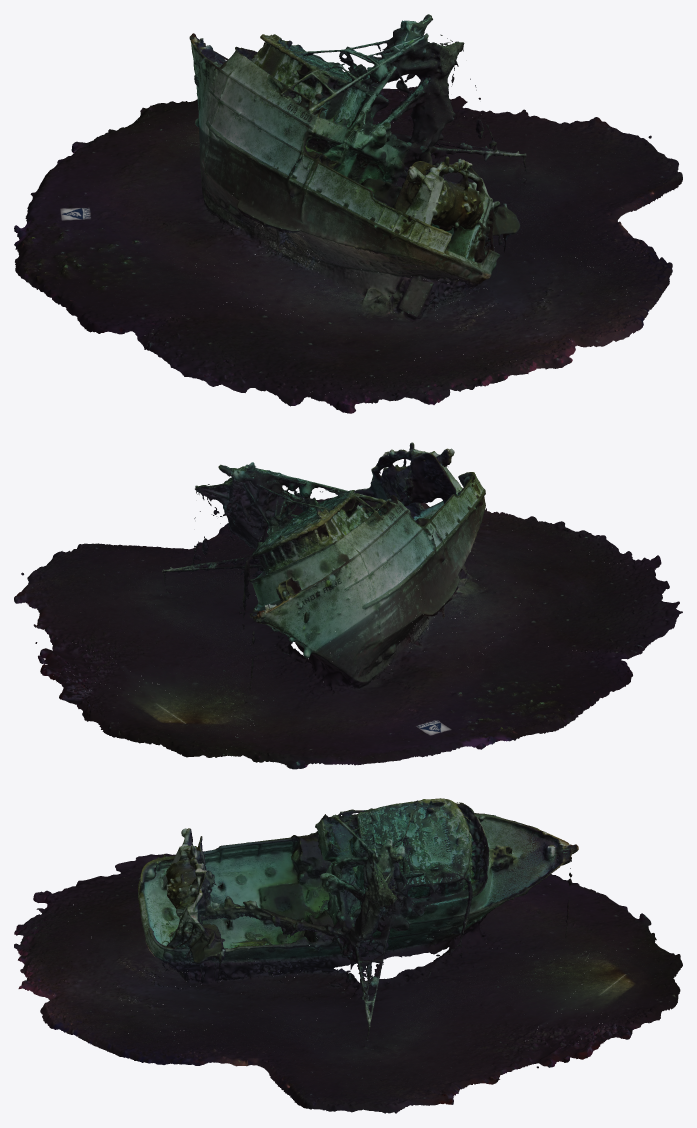
File: linda_rose.glb
3 renders of one model, top to bottom at view 1: azimuth 30°, elevation 25°; view 2: azimuth 150°, elevation 25°; view 3: azimuth 270°, elevation 25°, orthographic. The views are drawn at different scales.
Parts seen in each view (by area): view 1: Object_2, Object_15, Object_27, Object_40; view 2: Object_2, Object_15, Object_27, Object_40; view 3: Object_15, Object_27, Object_40, Object_2.
Part boxes in pixels (x1=…): Object_2: x1=14, y1=33, x2=651, y2=397; Object_15: x1=189, y1=33, x2=682, y2=413; Object_27: x1=137, y1=20, x2=575, y2=406; Object_40: x1=134, y1=14, x2=672, y2=330; Object_2: x1=21, y1=464, x2=632, y2=769; Object_15: x1=14, y1=448, x2=661, y2=719; Object_27: x1=35, y1=462, x2=682, y2=693; Object_40: x1=53, y1=442, x2=485, y2=757; Object_15: x1=14, y1=808, x2=592, y2=1113; Object_27: x1=18, y1=800, x2=598, y2=1069; Object_40: x1=82, y1=798, x2=682, y2=1064; Object_2: x1=38, y1=802, x2=657, y2=1112.
Size of the model in its own units: 22.93 by 6.83 by 23.71.
4 materials, 4 textured.
